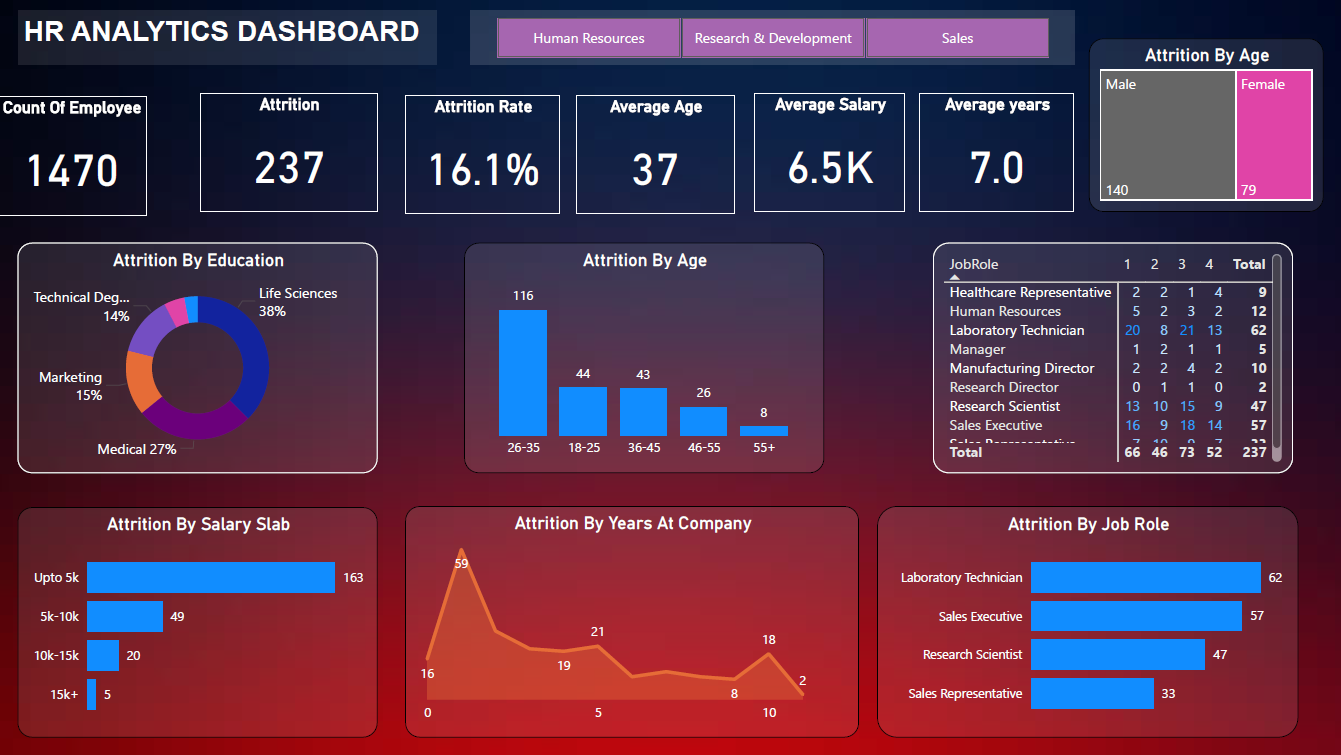

What the dashboard file says about the page in this screenshot:
{"tool":"powerbi","page":{"name":"Page 1","canvas":[1280,720],"ordinal":0},"visuals":[{"type":"card","title":"Count Of Employee","fields":{"Values":["CountNonNull(HR_Analytics.EmpID)"]},"box":[21.3,90.2,144.3,113.1],"z":0},{"type":"card","title":"Attrition","fields":{"Values":["Sum(HR_Analytics.AttritionCount)"]},"box":[194.4,87.9,169.1,113.3],"z":1000},{"type":"card","title":"Attrition Rate","fields":{"Values":["HR_Analytics.AttritionRate"]},"box":[388.8,89.6,147.1,113.3],"z":2000},{"type":"card","title":"Average Age","fields":{"Values":["Avg(HR_Analytics.Age)"]},"box":[551.1,89.6,150.5,113.3],"z":3000},{"type":"card","title":"Average Salary","fields":{"Values":["Avg(HR_Analytics.MonthlyIncome)"]},"box":[720.2,87.9,143.7,113.3],"z":4000},{"type":"card","title":"Average years","fields":{"Values":["Avg(HR_Analytics.YearsAtCompany)"]},"box":[877.4,87.9,147.1,113.3],"z":5000},{"type":"donutChart","title":"Attrition By Education","fields":{"Category":["HR_Analytics.EducationField"],"Y":["Sum(HR_Analytics.AttritionCount)"]},"box":[21.5,230.4,342,218.9],"z":6000},{"type":"columnChart","title":"Attrition By Age","fields":{"Category":["HR_Analytics.AgeGroup"],"Y":["Sum(HR_Analytics.AttritionCount)"]},"box":[445,230.4,342,218.9],"z":7000},{"type":"pivotTable","fields":{"Rows":["HR_Analytics.JobRole"],"Columns":["HR_Analytics.JobSatisfaction"],"Values":["Sum(HR_Analytics.AttritionCount)"]},"box":[890.1,230.4,342,218.9],"z":8000},{"type":"barChart","title":"Attrition By Salary Slab","fields":{"Category":["HR_Analytics.SalarySlab"],"Y":["Sum(HR_Analytics.AttritionCount)"]},"box":[21.5,480.8,342,218.9],"z":9000},{"type":"barChart","title":"Attrition By Job Role","fields":{"Category":["HR_Analytics.JobRole"],"Y":["Sum(HR_Analytics.AttritionCount)"]},"box":[859,480.3,401.6,219.7],"z":10000},{"type":"areaChart","title":"Attrition By Years At Company","fields":{"Category":["HR_Analytics.YearsAtCompany"],"Y":["Sum(HR_Analytics.AttritionCount)"]},"box":[401.6,480.3,431.1,219.7],"z":11000},{"type":"treemap","title":"Attrition By Age","fields":{"Group":["HR_Analytics.Gender"],"Values":["Sum(HR_Analytics.AttritionCount)"]},"box":[1038,35.5,223.2,165.7],"z":12000},{"type":"slicer","fields":{"Values":["HR_Analytics.Department"]},"box":[451.4,10.1,573.1,50.7],"z":13000},{"type":"textbox","box":[22,10.1,397.3,50.7],"z":14000}]}

Visuals, with their boxes in screenshot pixels (x1, y1, x2, y2), scaled from the page's 1280x720 canvas onto the 1341x755 screenshot:
"Count Of Employee" card: box=[22, 95, 173, 213]
"Attrition" card: box=[204, 92, 381, 211]
"Attrition Rate" card: box=[407, 94, 561, 213]
"Average Age" card: box=[577, 94, 735, 213]
"Average Salary" card: box=[755, 92, 905, 211]
"Average years" card: box=[919, 92, 1073, 211]
"Attrition By Education" donutChart: box=[23, 242, 381, 471]
"Attrition By Age" columnChart: box=[466, 242, 825, 471]
pivotTable - HR_Analytics.JobRole x HR_Analytics.JobSatisfaction: box=[933, 242, 1291, 471]
"Attrition By Salary Slab" barChart: box=[23, 504, 381, 734]
"Attrition By Job Role" barChart: box=[900, 504, 1321, 734]
"Attrition By Years At Company" areaChart: box=[421, 504, 872, 734]
"Attrition By Age" treemap: box=[1087, 37, 1321, 211]
slicer - HR_Analytics.Department: box=[473, 11, 1073, 64]
textbox: box=[23, 11, 439, 64]
